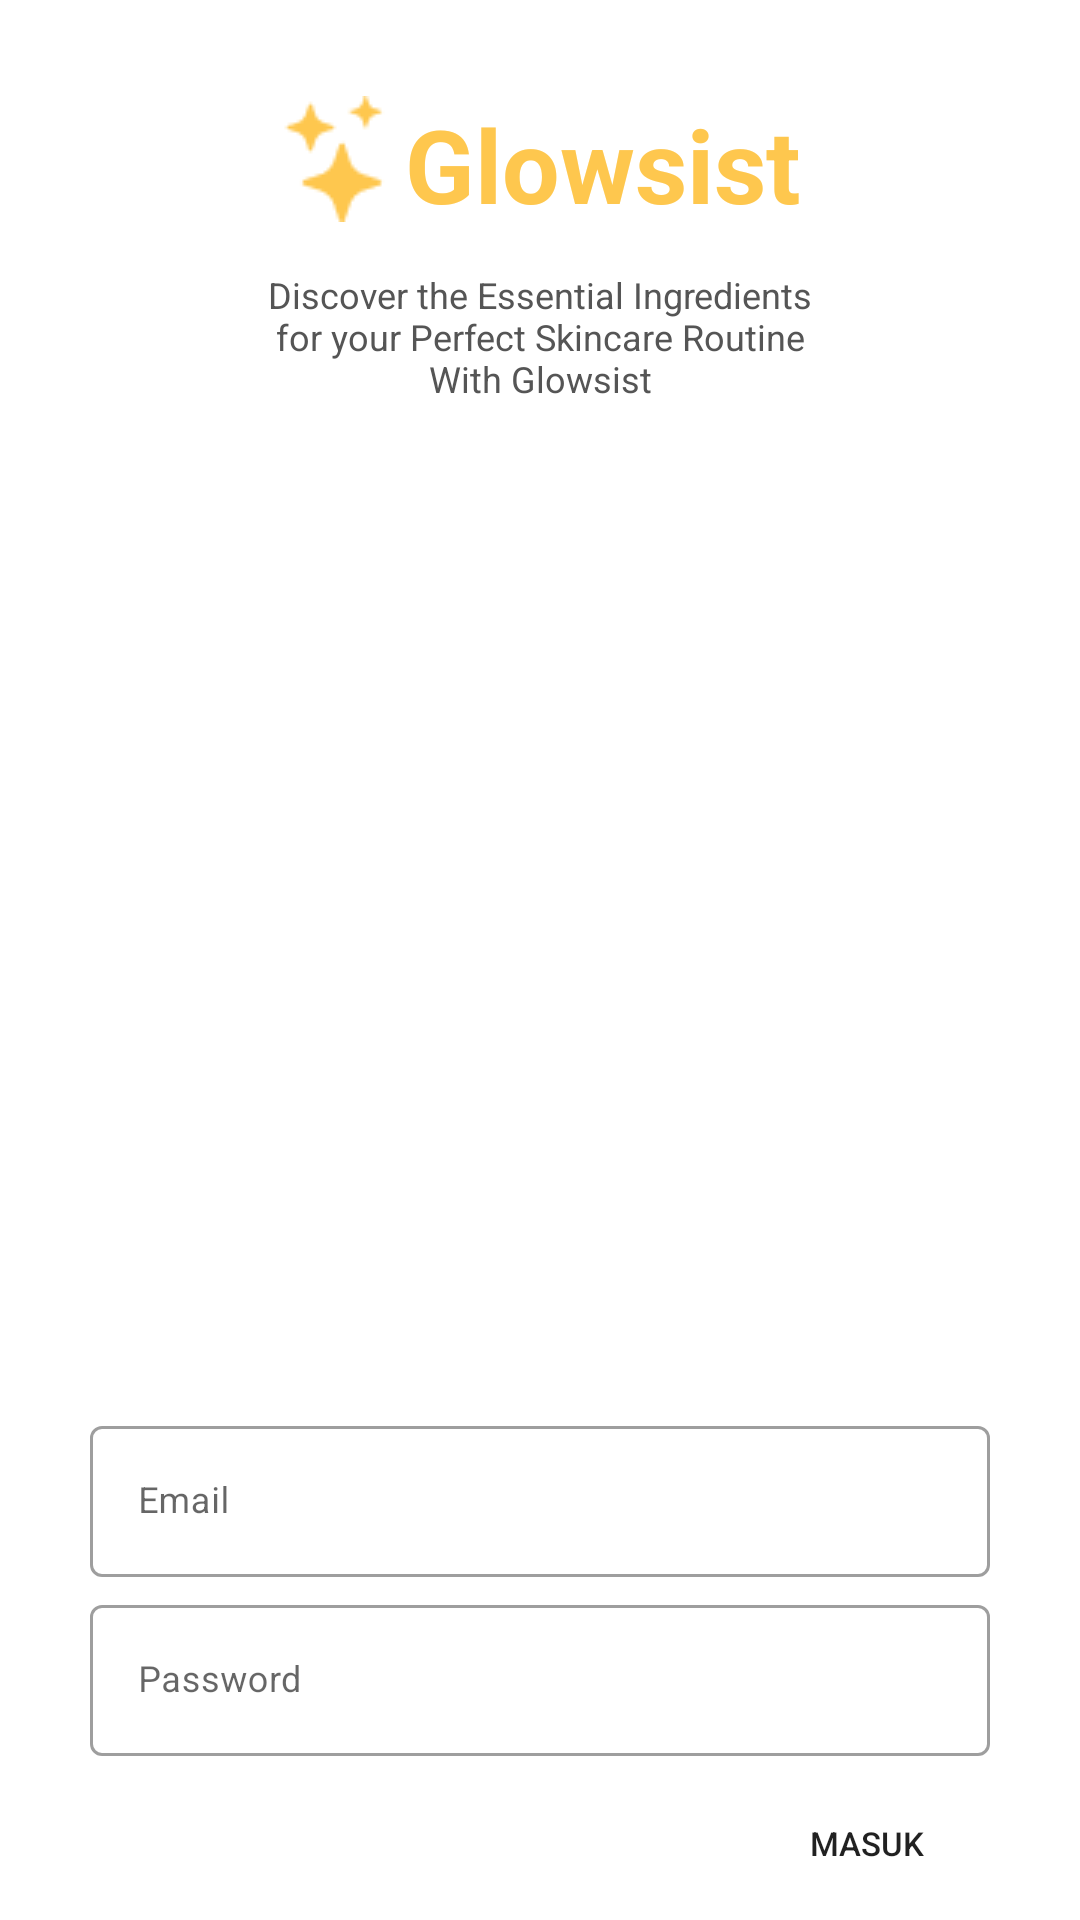

Where to tap for icons on this 1080×1920 app screen, as (x=x, y=y):
stars: (x=333, y=159)
